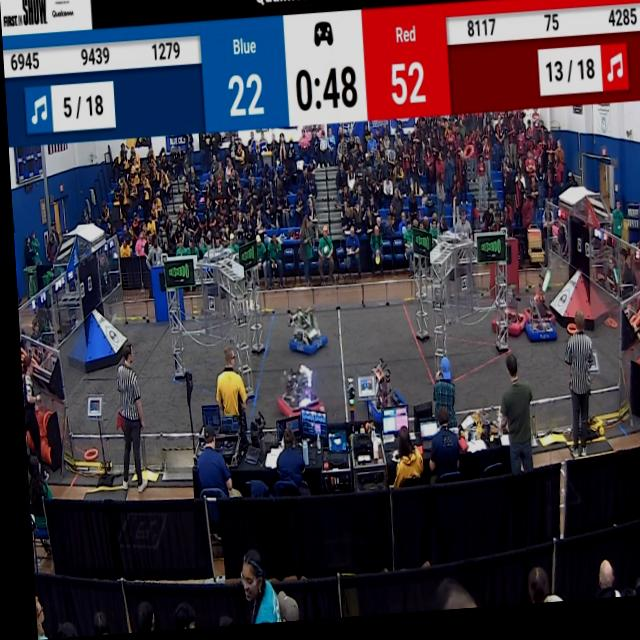Robot: (356, 355, 405, 428), (271, 365, 321, 426), (482, 279, 520, 353), (515, 284, 553, 357), (517, 264, 555, 335), (281, 307, 325, 368)
